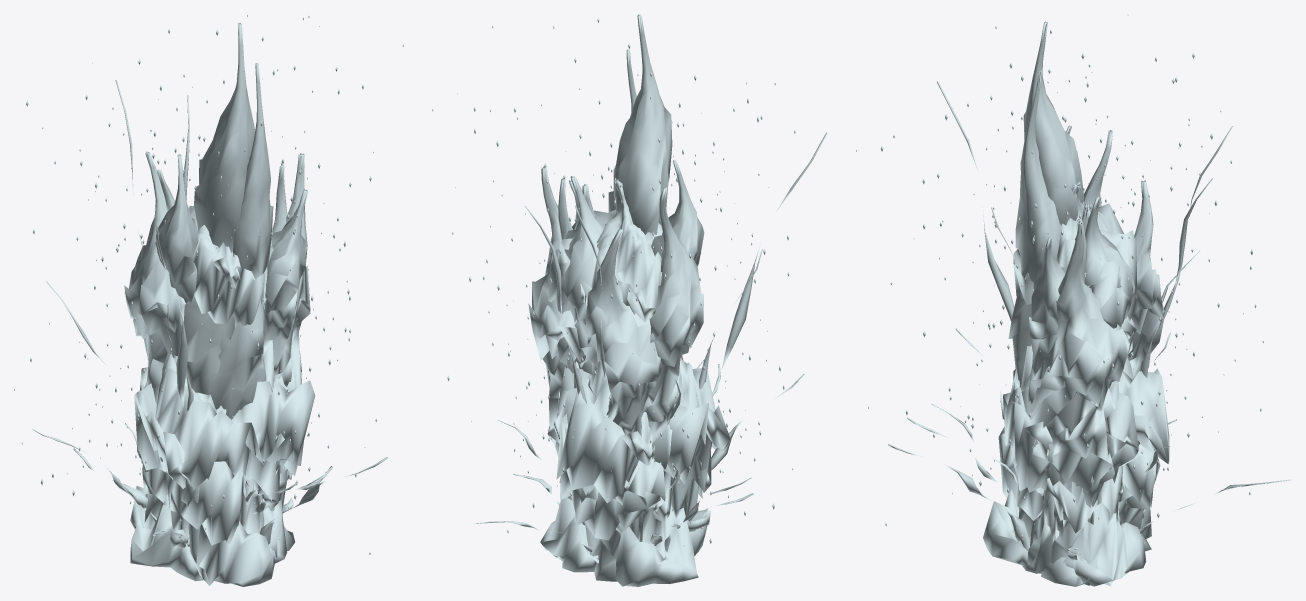
Rendered from shoulder-peak.glb.
The picture shows the model from 3 angles, left to right: view 1: azimuth 30°, elevation 25°; view 2: azimuth 150°, elevation 25°; view 3: azimuth 270°, elevation 25°; orthographic projection. The views are drawn at different scales.
Parts seen in each view (by area): view 1: Shell water / deforming core, jets and drops; view 2: Shell water / deforming core, jets and drops; view 3: Shell water / deforming core, jets and drops.
Boxes of the visible parts, bbox=[...] form: Shell water / deforming core, jets and drops: bbox=[14, 14, 403, 586]; Shell water / deforming core, jets and drops: bbox=[432, 14, 827, 586]; Shell water / deforming core, jets and drops: bbox=[856, 14, 1291, 586].
Size of the model in its own units: 0.6109 by 0.913 by 0.6749.
